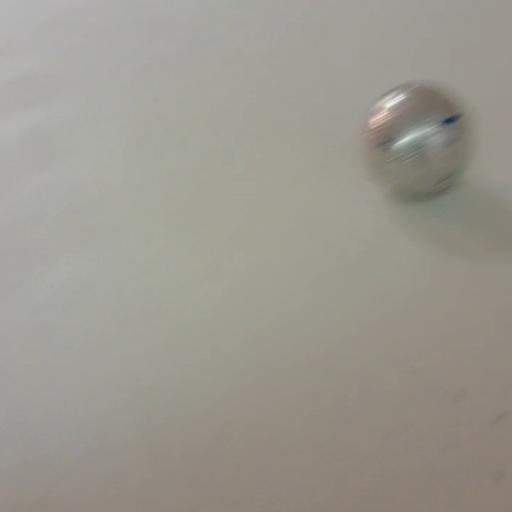alive: (359, 81, 471, 200)
